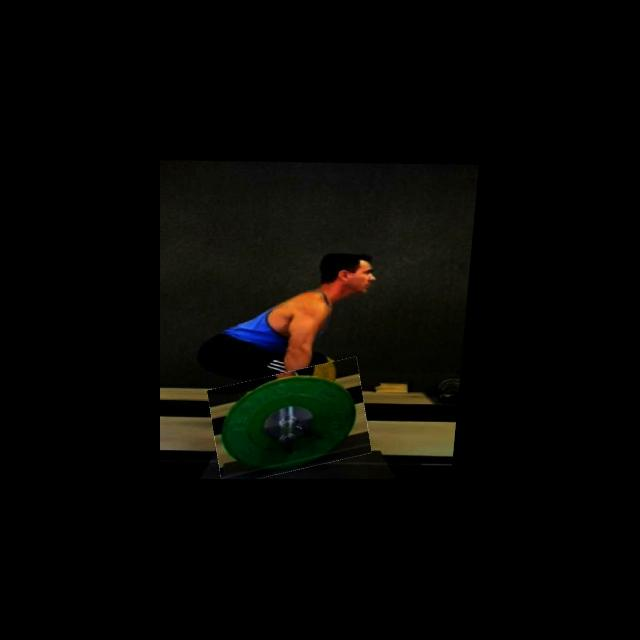barbell: (210, 363, 378, 479)
